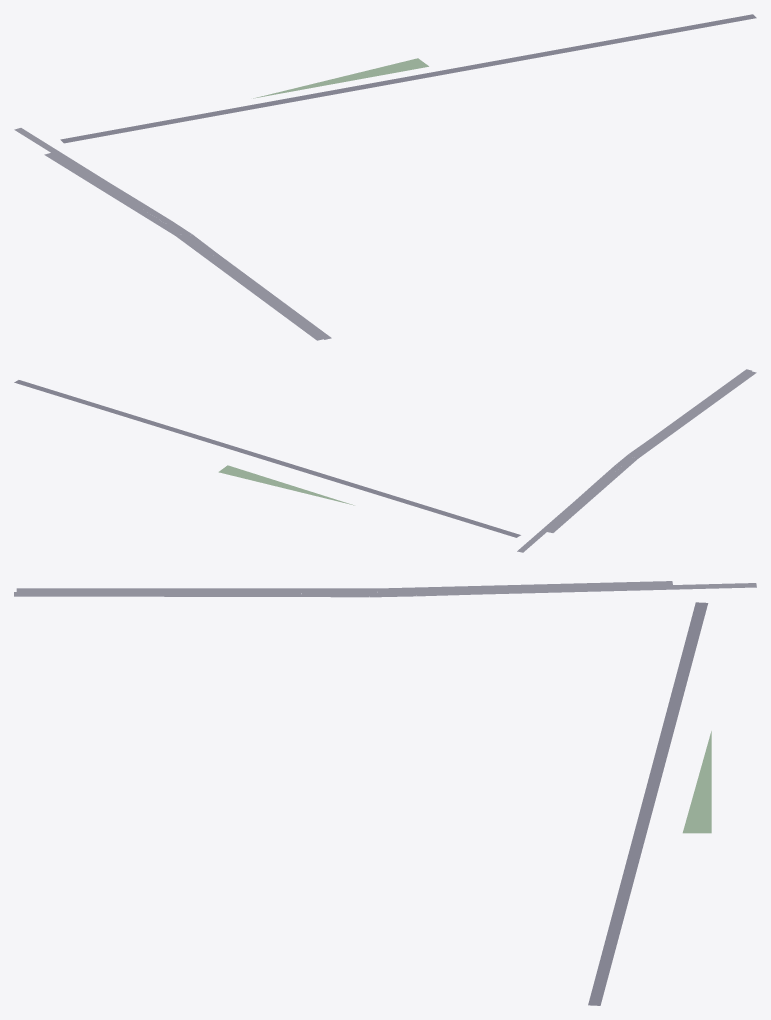
File: 124_129_mid.glb
3 renders of one model, top to bottom at view 1: azimuth 30°, elevation 25°; view 2: azimuth 150°, elevation 25°; view 3: azimuth 270°, elevation 25°, orthographic. The views are drawn at different scales.
Bounding box in the file's own units: 824 × 12.61 × 617.
